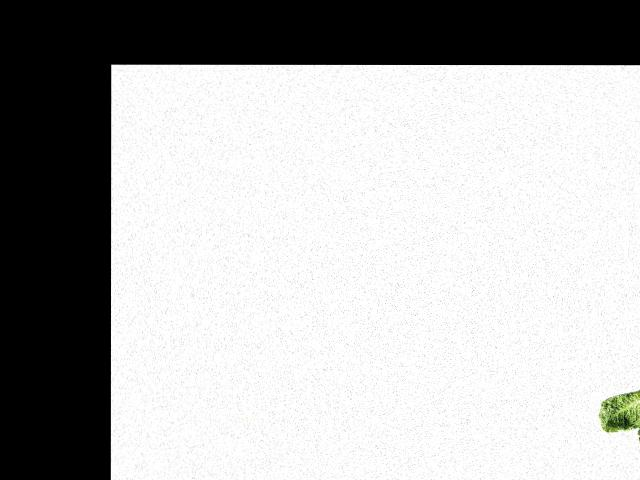lettuce: (637, 390, 640, 451)
